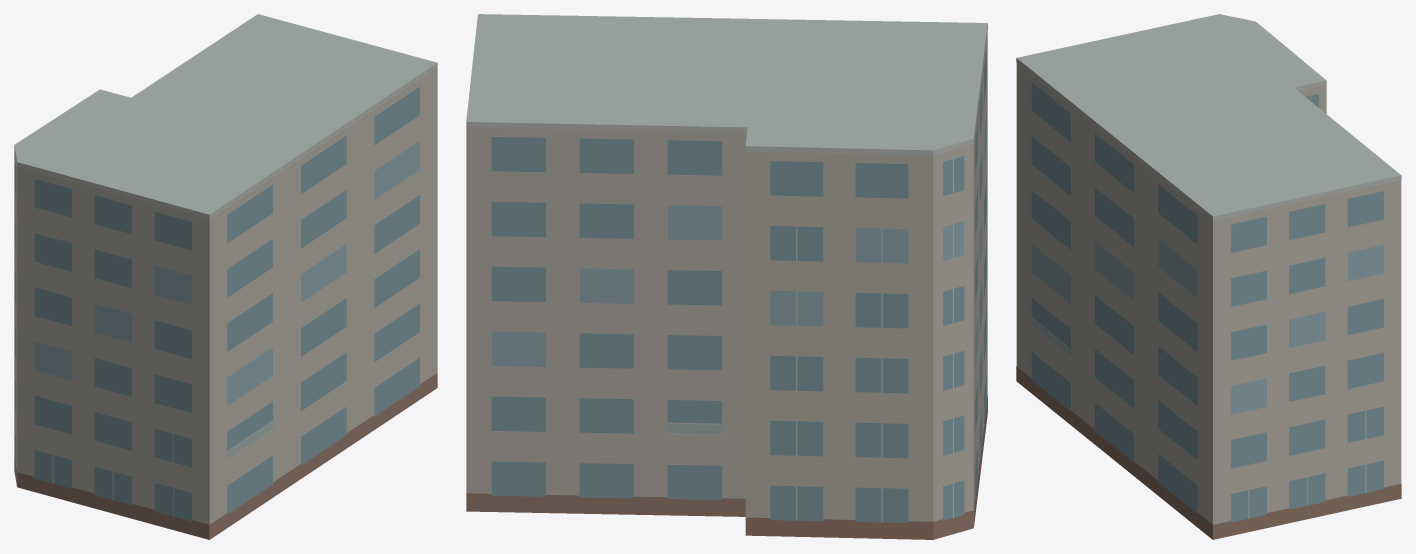
Rendered from survey-upis-33030917.glb.
3 renders of one model, left to right at view 1: azimuth 30°, elevation 25°; view 2: azimuth 150°, elevation 25°; view 3: azimuth 270°, elevation 25°, orthographic. The views are drawn at different scales.
Visible parts, largest first — view 1: survey-upis-33030917.tmp; view 2: survey-upis-33030917.tmp; view 3: survey-upis-33030917.tmp.
Boxes of the visible parts, left/top/right/bottom form: survey-upis-33030917.tmp: left=14, top=14, right=437, bottom=539; survey-upis-33030917.tmp: left=466, top=14, right=987, bottom=539; survey-upis-33030917.tmp: left=1016, top=14, right=1401, bottom=539.
Bounding box in the file's own units: 23.37 × 17.4 × 18.78.
